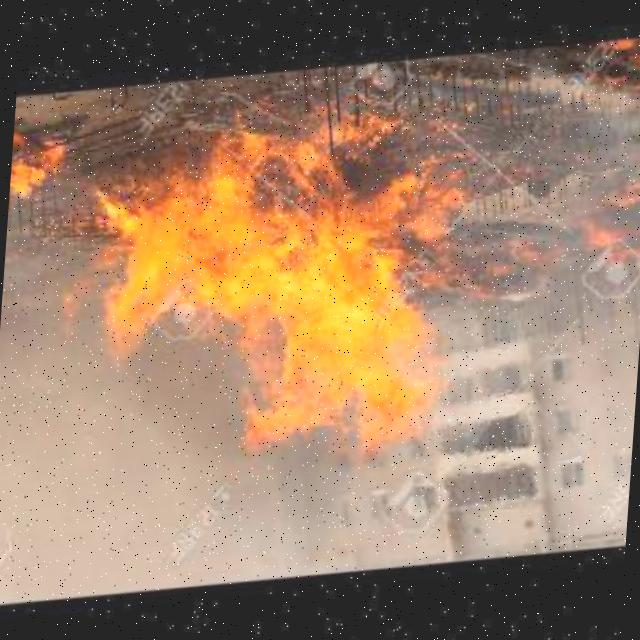fire: (71, 100, 455, 476), (6, 100, 82, 223), (593, 36, 640, 112)
